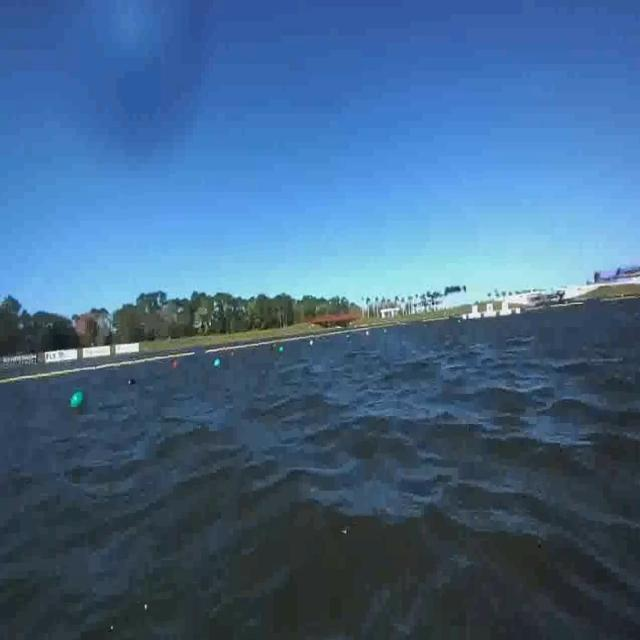green-buoy: (72, 390, 85, 406), (214, 358, 222, 366)
